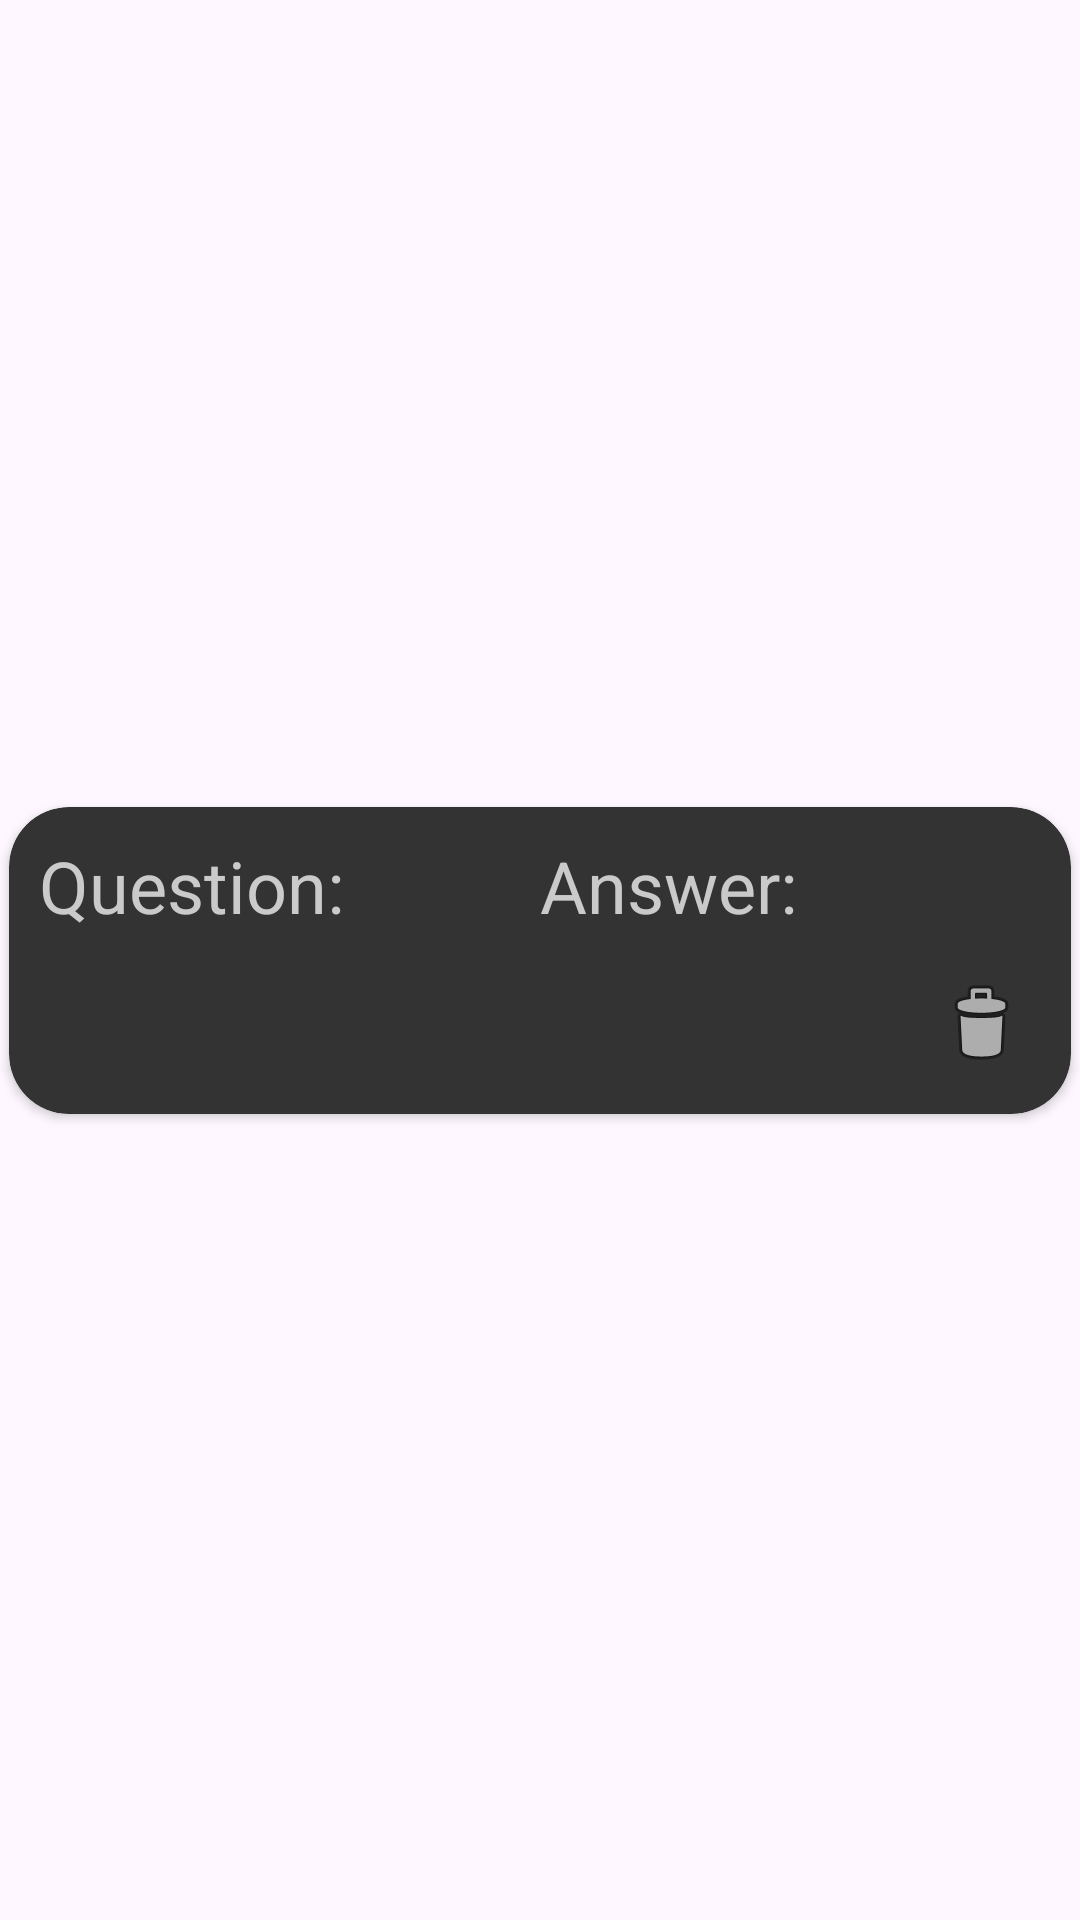

Point at icon controls on the screen. Image size 1080 × 1920, points as (x,y).
delete: (981,1022)
